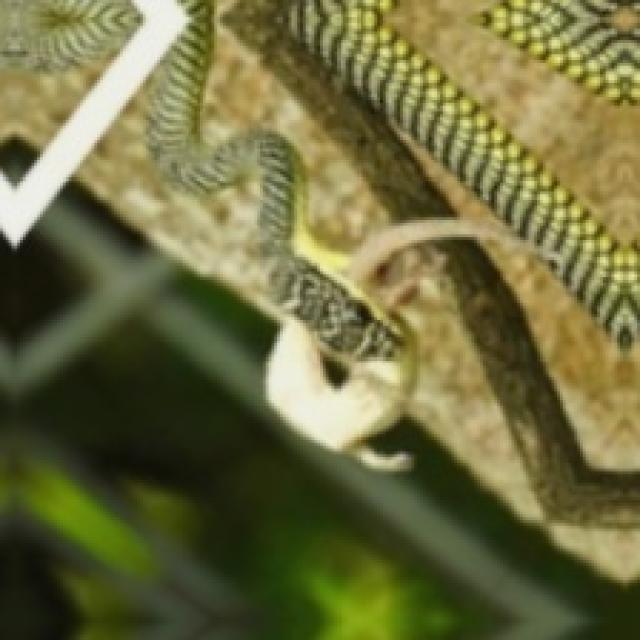paradise tree snake: (280, 0, 640, 346), (149, 0, 406, 448), (481, 0, 640, 104)
